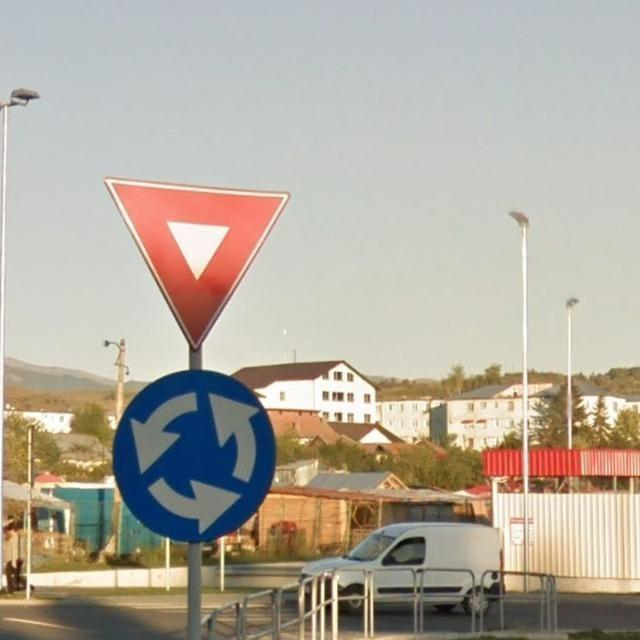prio_give_way: (104, 175, 290, 354)
